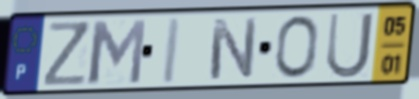I: (158, 15, 185, 87)
M: (86, 16, 149, 86)
N: (207, 16, 259, 82)
O: (274, 14, 320, 81)
U: (323, 10, 376, 81)
Z: (41, 19, 92, 89)
